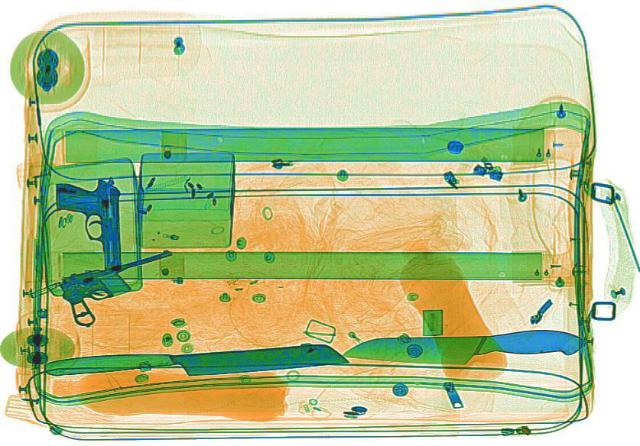Gun: (29, 247, 197, 328), (52, 175, 126, 271)
Knife: (41, 340, 346, 379), (340, 325, 592, 368)
